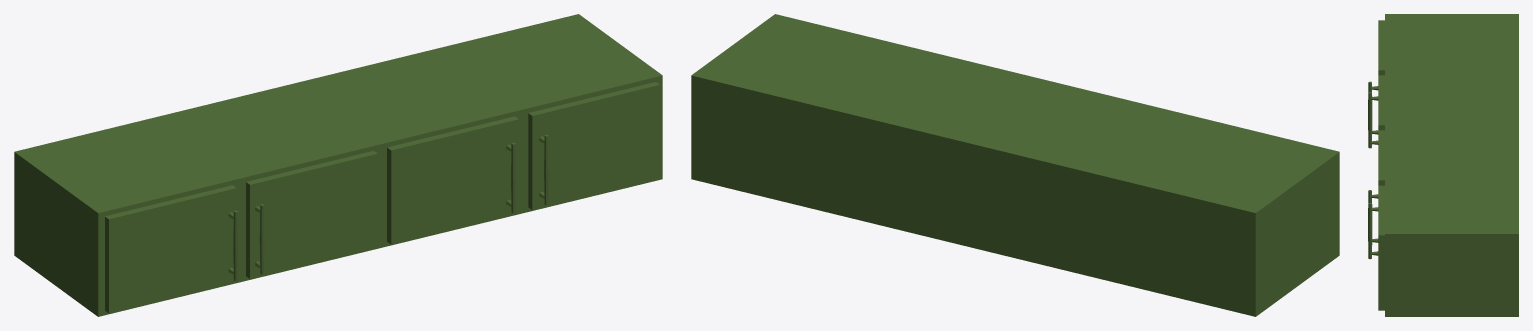
File: armários.fbx
3 renders of one model, left to right at view 1: azimuth 30°, elevation 25°; view 2: azimuth 150°, elevation 25°; view 3: azimuth 270°, elevation 25°, orthographic. The views are drawn at different scales.
Visible parts, largest first — view 1: Armários; view 2: Armários; view 3: Armários.
Boxes of the visible parts, x1,y1,x2,y2 form: Armários: [14, 14, 662, 316]; Armários: [691, 14, 1339, 316]; Armários: [1368, 14, 1518, 316].
Size of the model in its own units: 854 by 150 by 248.
